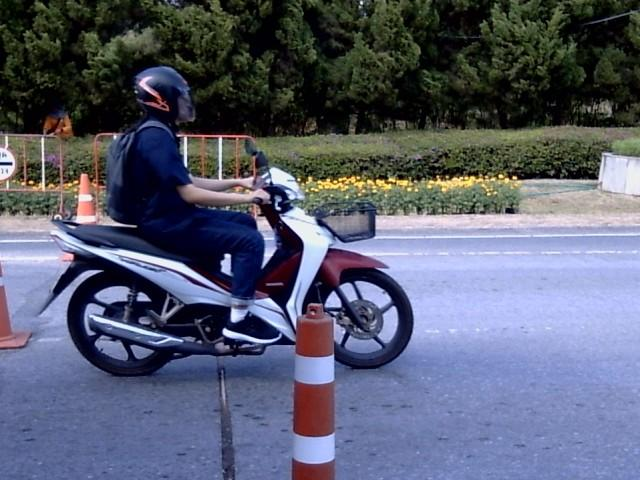helmet: (134, 64, 195, 123)
motor: (245, 139, 413, 367), (39, 219, 264, 375)
person: (127, 67, 279, 343)
